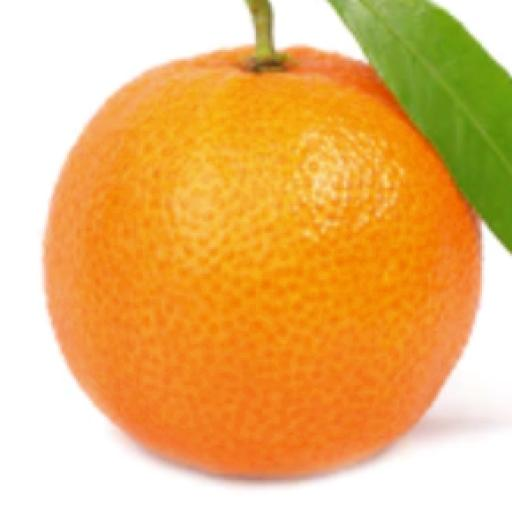orange: (45, 49, 480, 476)
